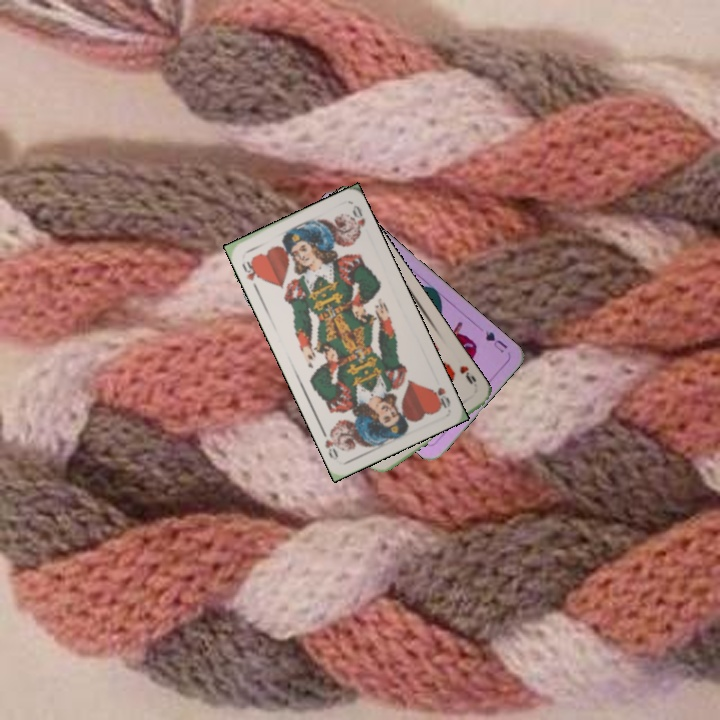GU: (481, 326, 510, 356)
H9: (456, 361, 479, 387)
HO: (238, 254, 265, 285), (428, 383, 453, 411)
